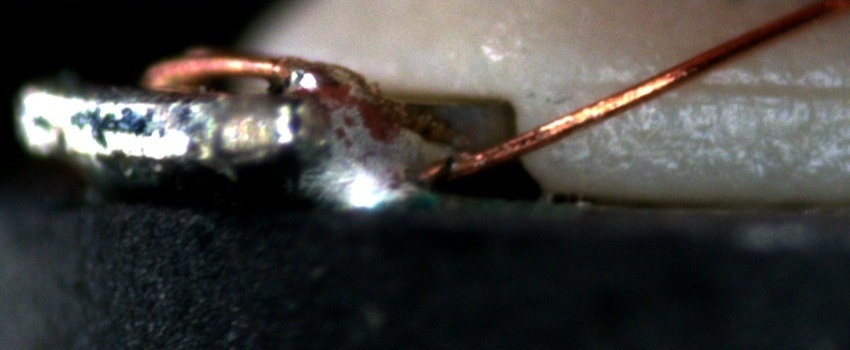DL: (568, 54, 850, 118)
TE: (138, 46, 308, 94)
